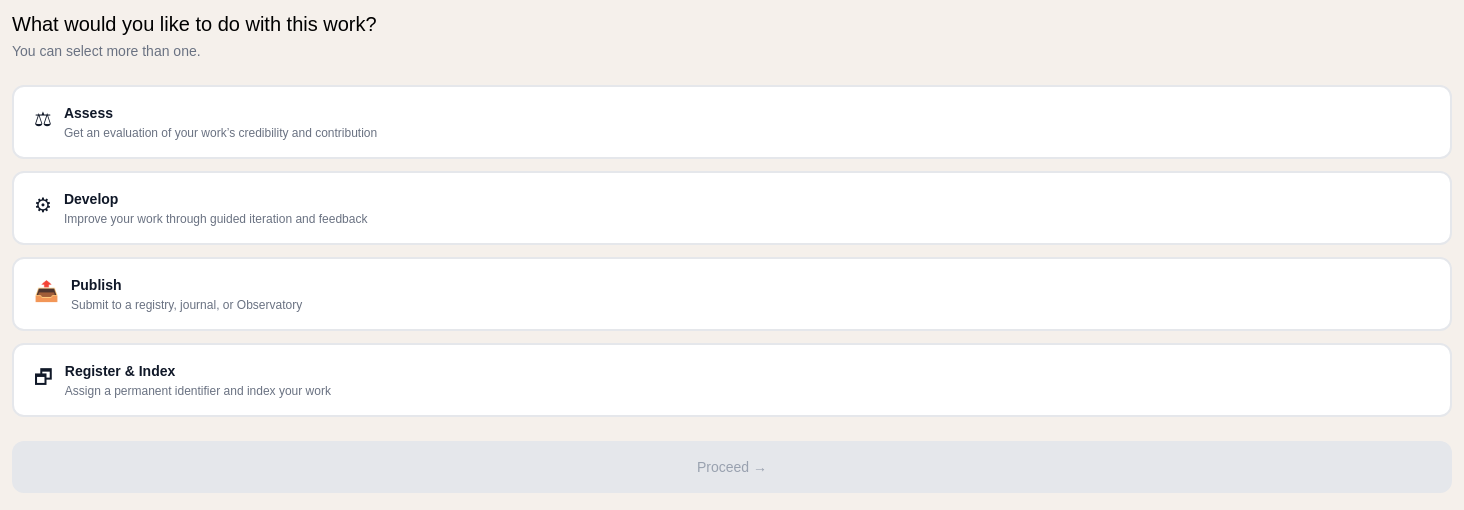
Test: IntentSelection › proceed button activates when one intent selected
Click the button with test id "intent-assess". click: (88, 113)
box: 12,85 -> 1452,159
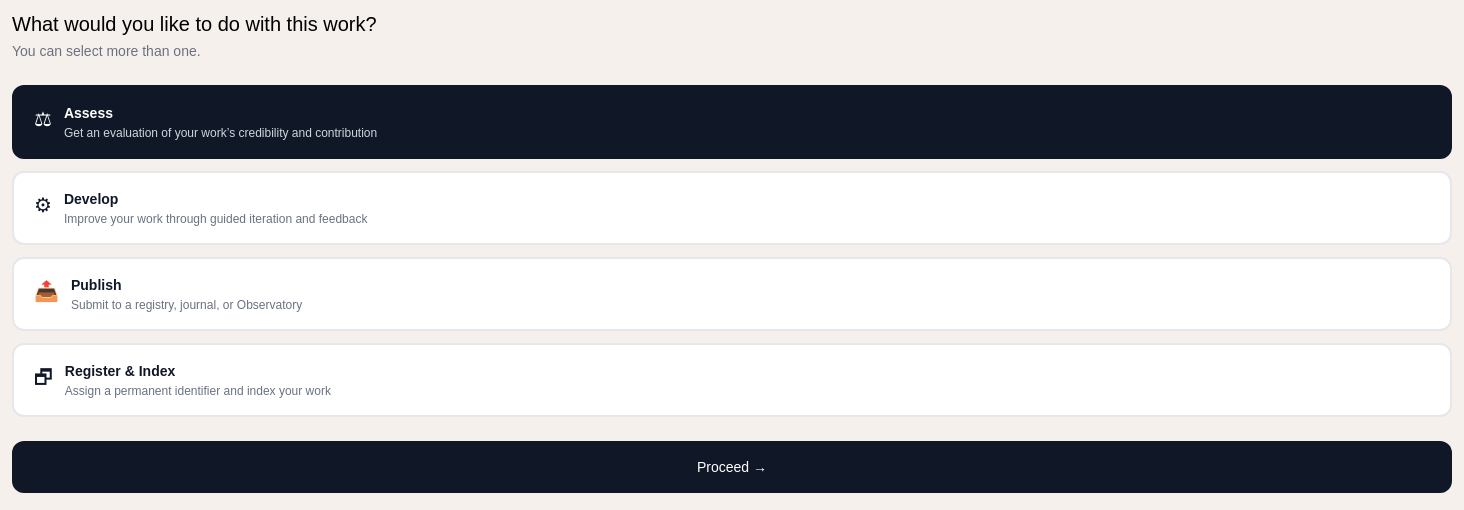
Expected: the button with test id "intent-proceed" is enabled, 12,441 -> 1452,493
